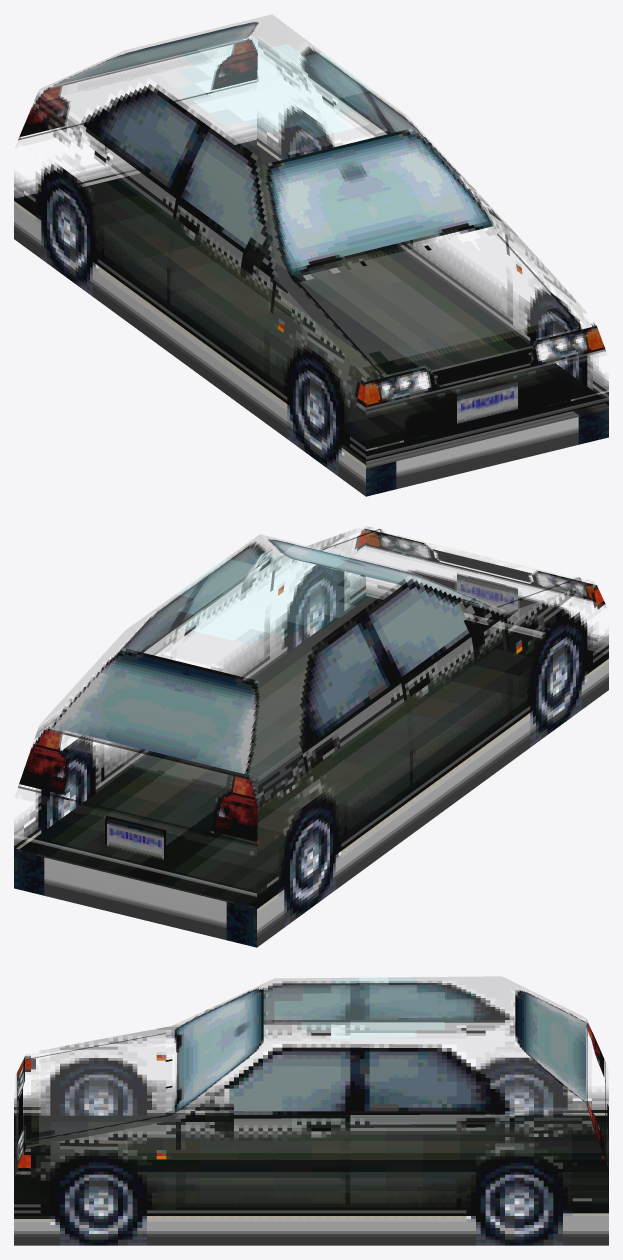
File: glass-119.glb
3 renders of one model, top to bottom at view 1: azimuth 30°, elevation 25°; view 2: azimuth 150°, elevation 25°; view 3: azimuth 270°, elevation 25°, orthographic. The views are drawn at different scales.
Visible parts, largest first — view 1: model; view 2: model; view 3: model.
Boxes of the visible parts, bbox=[...] form: model: bbox=[14, 14, 608, 496]; model: bbox=[14, 525, 608, 947]; model: bbox=[14, 976, 608, 1245].
Size of the model in its own units: 15.95 by 14.02 by 40.01.
4 materials, 4 textured.
